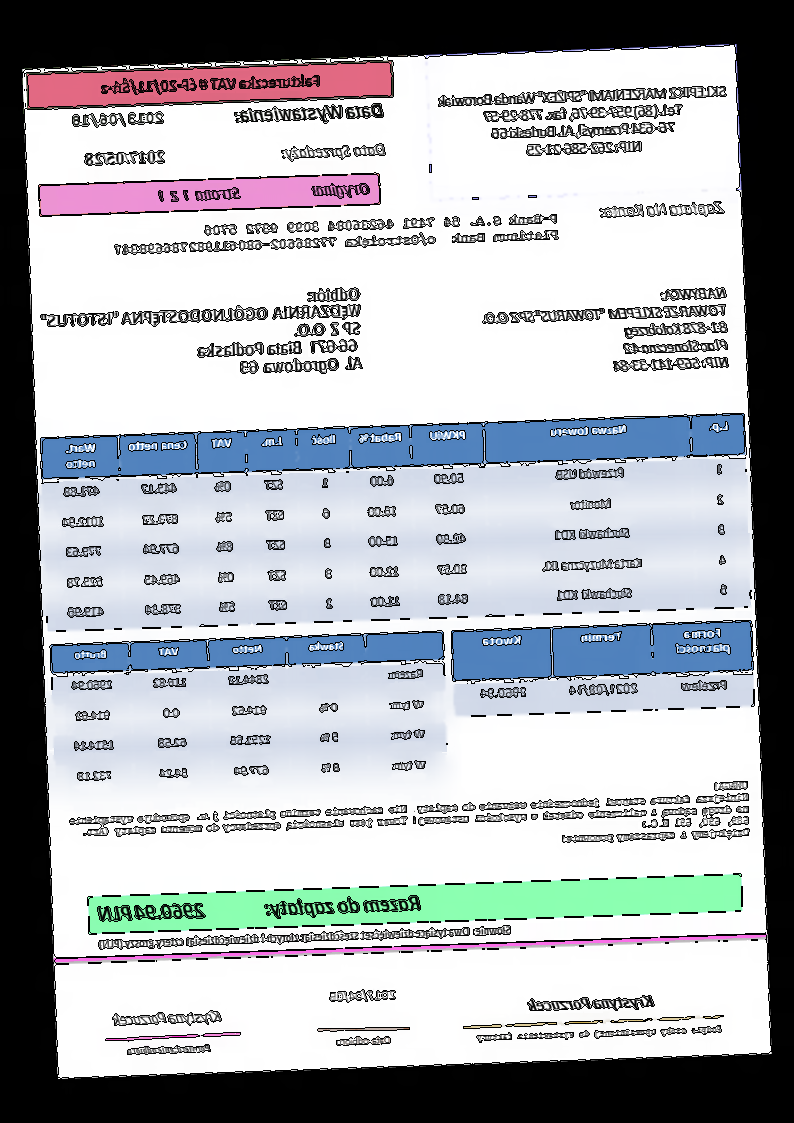Table: (39, 413, 753, 634), (48, 631, 450, 796), (451, 620, 757, 718)
TextBox: (67, 778, 753, 865), (37, 286, 364, 385), (436, 79, 731, 162), (478, 285, 733, 380), (110, 210, 562, 260), (97, 922, 514, 953), (96, 892, 424, 925), (98, 71, 322, 98), (476, 1022, 724, 1046), (153, 179, 370, 205), (232, 100, 385, 127), (596, 199, 727, 223), (525, 993, 656, 1017), (110, 1007, 224, 1030), (280, 142, 387, 163), (71, 109, 166, 131), (327, 983, 399, 1007), (85, 149, 166, 168), (124, 1042, 212, 1058), (333, 1032, 392, 1049)
